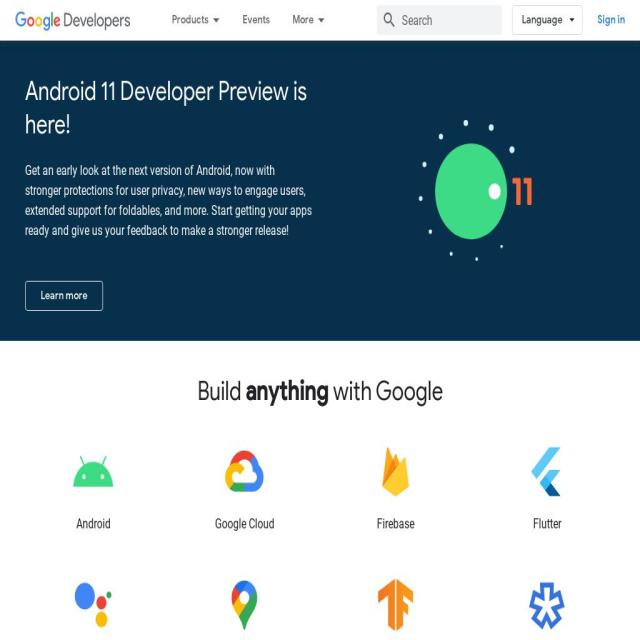button: (15, 7, 131, 33), (224, 444, 264, 504), (376, 444, 416, 504), (527, 444, 567, 504), (73, 578, 113, 638), (224, 578, 264, 638), (376, 578, 416, 638), (527, 578, 567, 638), (25, 281, 103, 311), (512, 5, 582, 35), (73, 456, 113, 492), (592, 5, 630, 35)
field: (377, 5, 502, 35)
heading: (25, 74, 313, 141), (328, 374, 443, 408), (245, 374, 329, 408), (197, 374, 246, 408)
image: (399, 95, 543, 287), (15, 7, 131, 33), (224, 444, 264, 498), (376, 444, 416, 498), (527, 444, 567, 498), (73, 578, 113, 632), (224, 578, 264, 632), (376, 578, 416, 632), (527, 578, 567, 632), (73, 456, 113, 486)
link: (172, 0, 209, 40), (292, 0, 328, 40), (242, 0, 270, 40)
text: (25, 161, 313, 241), (25, 514, 161, 534), (176, 514, 312, 534), (479, 514, 615, 534), (328, 514, 463, 534)
